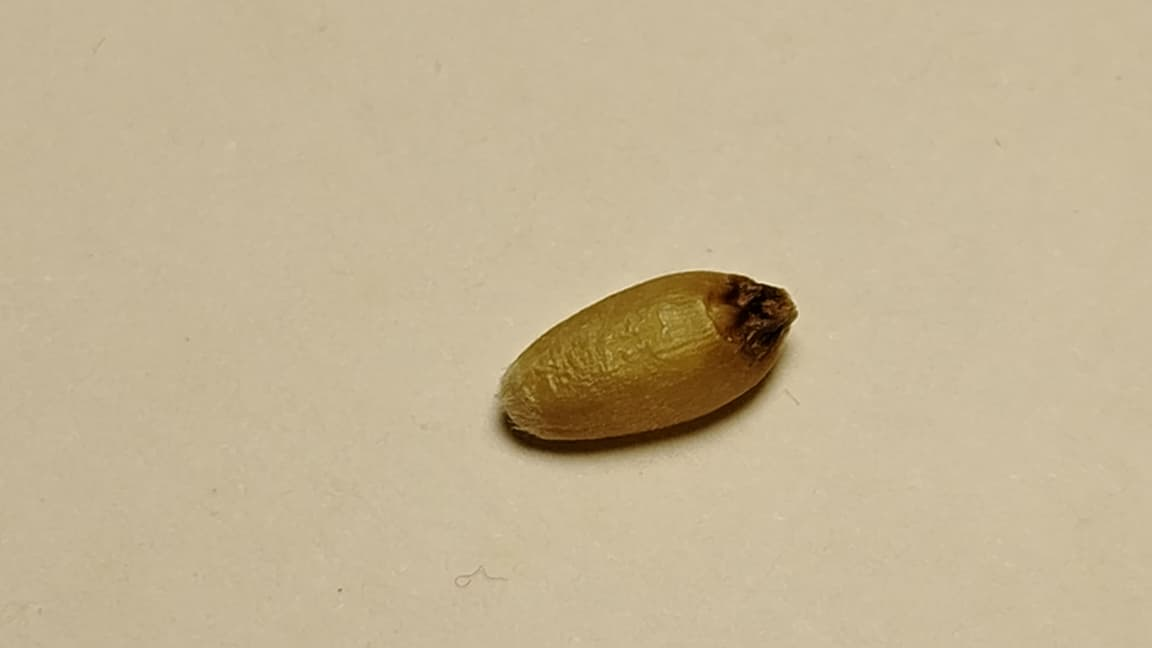black_point: (710, 268, 811, 369)
healthy: (500, 271, 795, 437)
